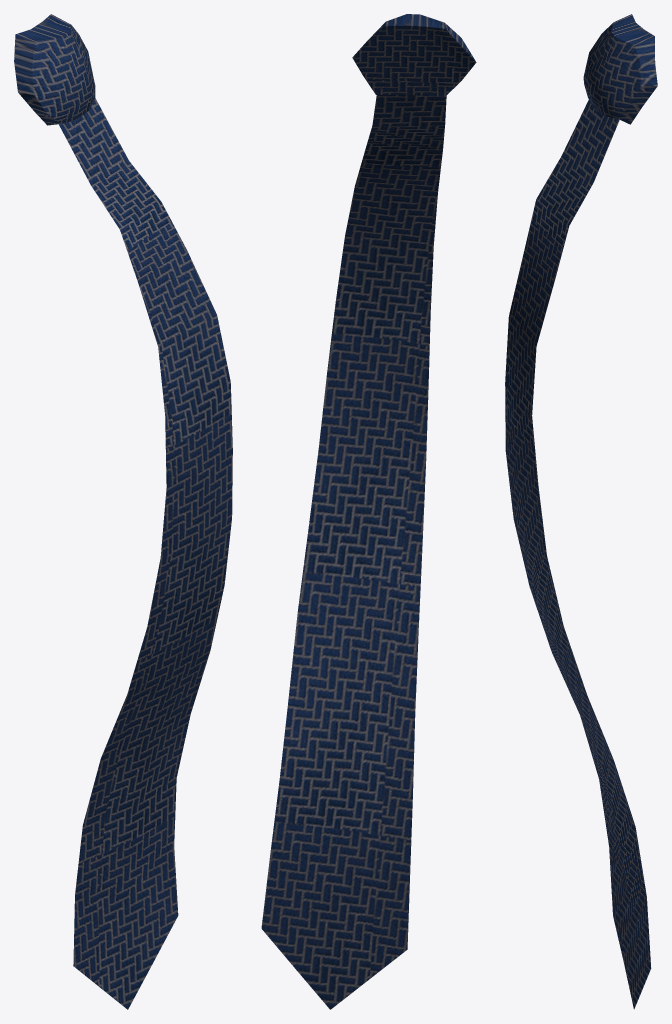
File: Pose-4_SuitTie-3.fbx
3 renders of one model, left to right at view 1: azimuth 30°, elevation 25°; view 2: azimuth 150°, elevation 25°; view 3: azimuth 270°, elevation 25°, orthographic. The views are drawn at different scales.
Parts seen in each view (by area): view 1: Pose-4_SuitTie-3; view 2: Pose-4_SuitTie-3; view 3: Pose-4_SuitTie-3.
Part boxes in pixels (bbox=[...]): Pose-4_SuitTie-3: bbox=[14, 14, 232, 1009]; Pose-4_SuitTie-3: bbox=[261, 14, 476, 1009]; Pose-4_SuitTie-3: bbox=[505, 14, 657, 1009].
Size of the model in its own units: 10.08 by 51.67 by 7.58.
